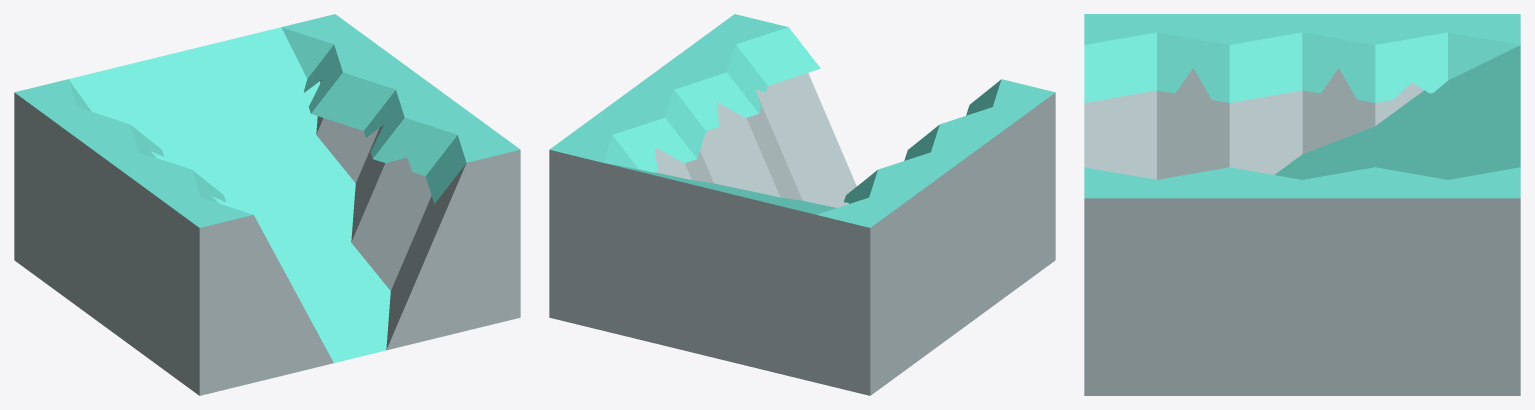
Rendered from cliff_blockSlopeHalfWalls_stone.gltf.
3 renders of one model, left to right at view 1: azimuth 30°, elevation 25°; view 2: azimuth 150°, elevation 25°; view 3: azimuth 270°, elevation 25°, orthographic. The views are drawn at different scales.
Visible parts, largest first — view 1: cliff_blockSlopeHalfWalls_stone; view 2: cliff_blockSlopeHalfWalls_stone; view 3: cliff_blockSlopeHalfWalls_stone.
Part boxes in pixels (x1,y1,x2,y2): cliff_blockSlopeHalfWalls_stone: (14, 14, 520, 395); cliff_blockSlopeHalfWalls_stone: (549, 14, 1055, 395); cliff_blockSlopeHalfWalls_stone: (1084, 14, 1520, 395).
Size of the model in its own units: 1 by 0.5 by 1.
